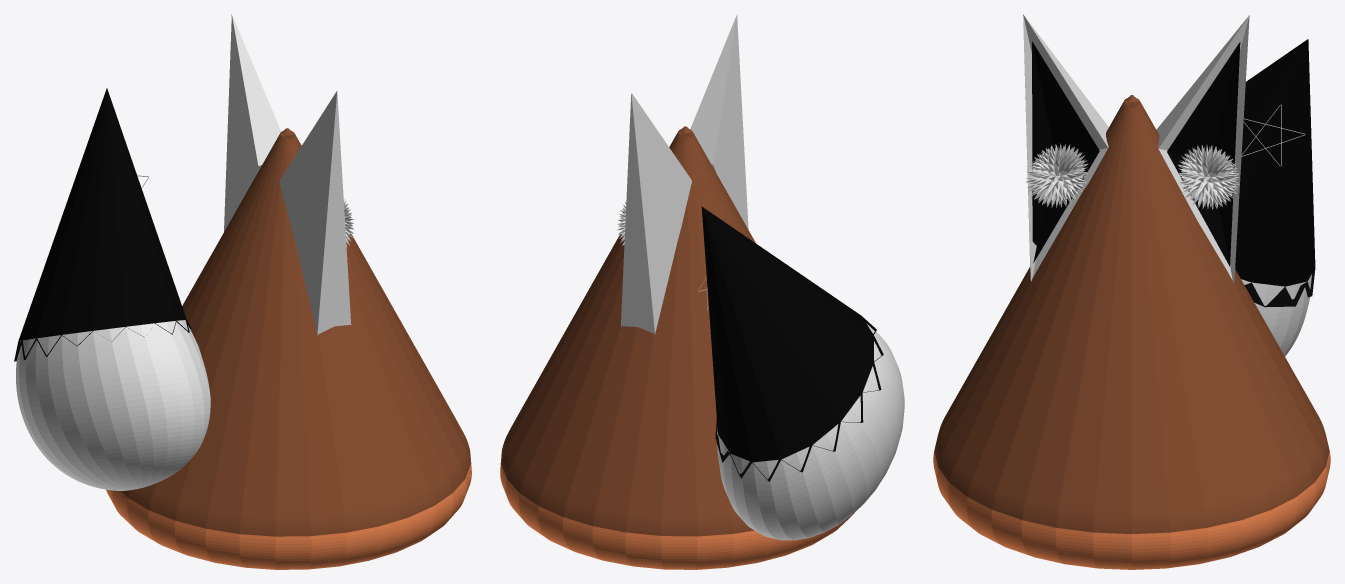
The model's file is おるやんけ(ロケット).fbx.
3 renders of one model, left to right at view 1: azimuth 30°, elevation 25°; view 2: azimuth 150°, elevation 25°; view 3: azimuth 270°, elevation 25°, orthographic. The views are drawn at different scales.
Parts seen in each view (by area): view 1: おるやんけ; view 2: おるやんけ; view 3: おるやんけ.
Part boxes in pixels (bbox=[...]): おるやんけ: bbox=[14, 14, 471, 569]; おるやんけ: bbox=[500, 15, 904, 569]; おるやんけ: bbox=[933, 14, 1330, 569].
Size of the model in its own units: 207 by 235 by 173.
